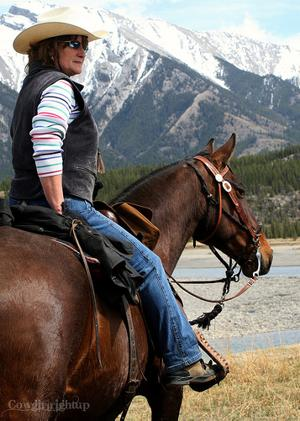person: (9, 5, 218, 389)
